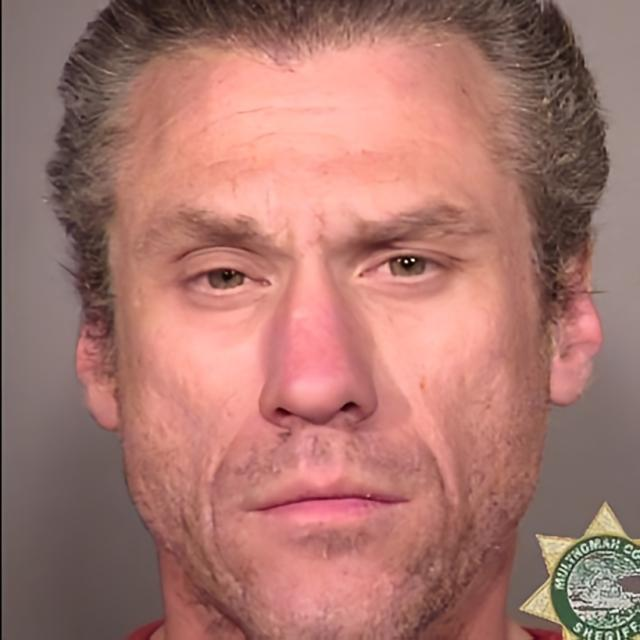anger: (119, 54, 554, 640)
